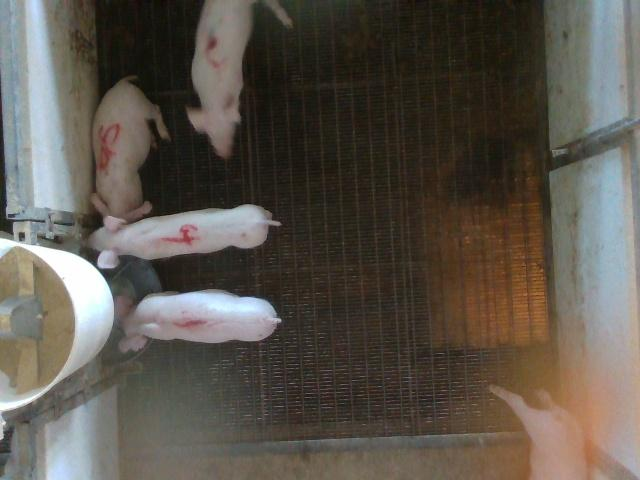pig-1: (115, 290, 281, 353)
pig-3: (188, 0, 256, 158)
pig-4: (85, 205, 280, 269)
pig-5: (92, 76, 170, 222)
